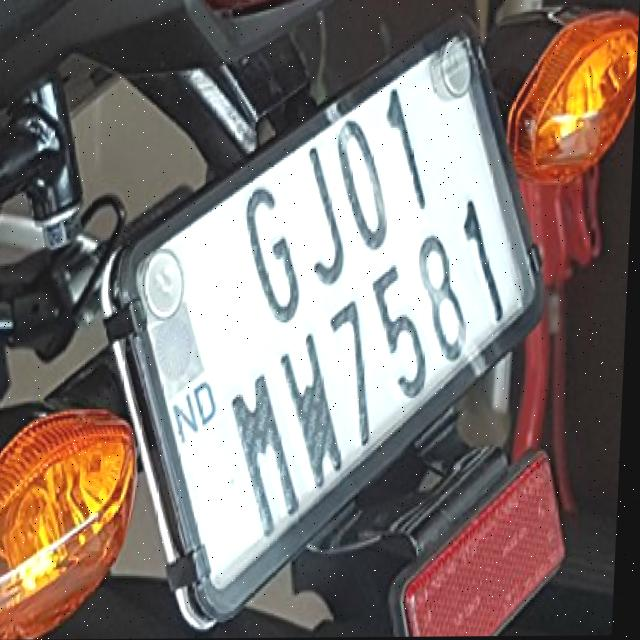plate: (97, 17, 558, 626)
